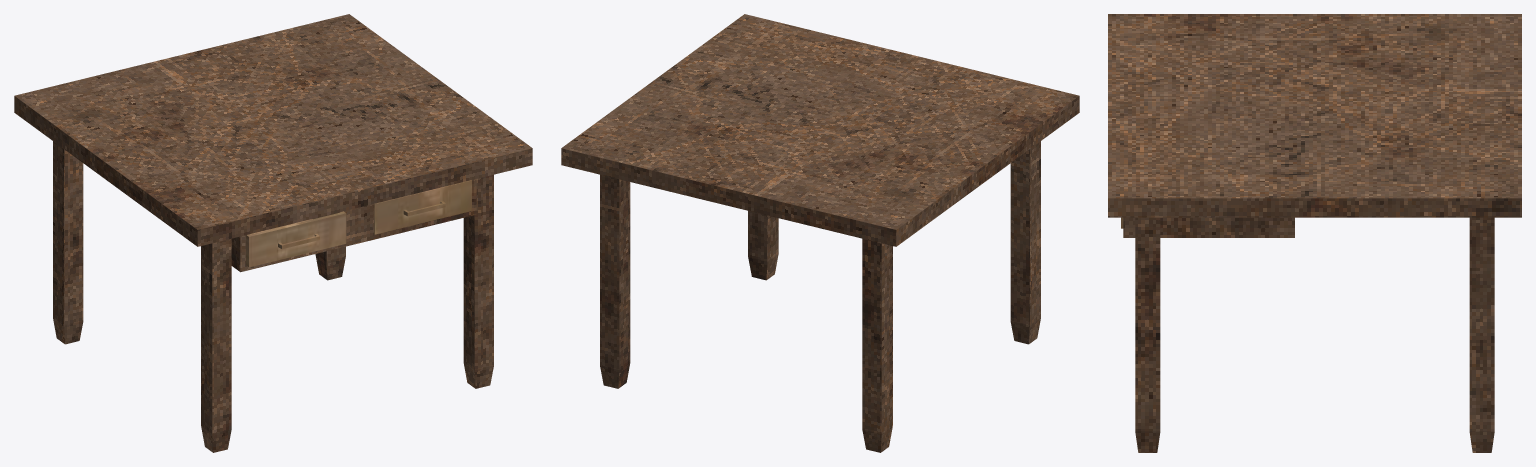
File: drawer_table.glb
3 views of the same model, side by side, from view 1: azimuth 30°, elevation 25°; view 2: azimuth 150°, elevation 25°; view 3: azimuth 270°, elevation 25° (orthographic). The views are drawn at different scales.
Parts seen in each view (by area): view 1: SM_TVStand, SM_Drawer_01, SM_Drawer_02; view 2: SM_TVStand; view 3: SM_TVStand.
Part boxes in pixels (x1=…): SM_TVStand: x1=14, y1=14, x2=532, y2=452; SM_Drawer_01: x1=246, y1=211, x2=346, y2=267; SM_Drawer_02: x1=374, y1=180, x2=471, y2=234; SM_TVStand: x1=561, y1=14, x2=1079, y2=452; SM_TVStand: x1=1108, y1=14, x2=1521, y2=452.
Bounding box in the file's own units: 1.27 × 0.8666 × 1.2.
Materials: 2 (2 with a texture image).
